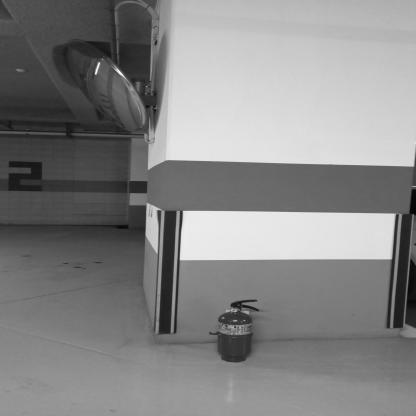FE: (218, 299, 260, 363)
